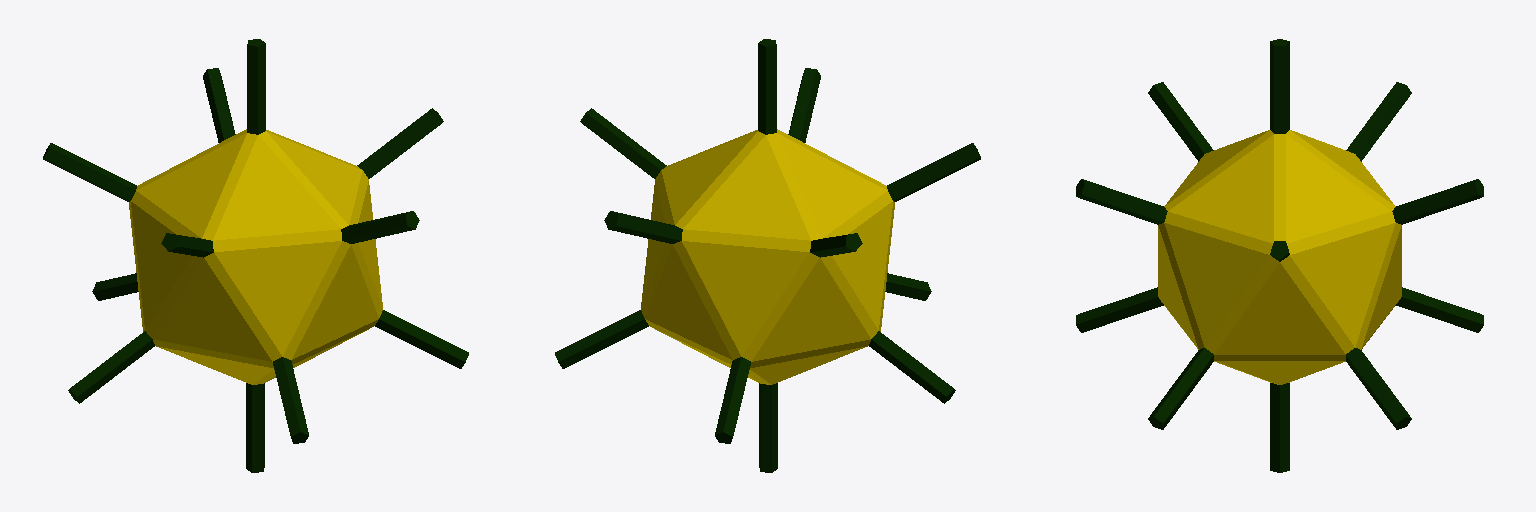
File: virus_ico_small.obj
3 renders of one model, left to right at view 1: azimuth 30°, elevation 25°; view 2: azimuth 150°, elevation 25°; view 3: azimuth 270°, elevation 25°, orthographic.
Visible parts, largest first — view 1: Virus_Ico_Small_Icosphere.005; view 2: Virus_Ico_Small_Icosphere.005; view 3: Virus_Ico_Small_Icosphere.005.
Boxes of the visible parts, box(x1,y1,x2,y2) form: Virus_Ico_Small_Icosphere.005: box(43, 39, 468, 472); Virus_Ico_Small_Icosphere.005: box(555, 39, 980, 472); Virus_Ico_Small_Icosphere.005: box(1076, 39, 1483, 472).
Size of the model in its own units: 4.42 by 4.84 by 4.21.